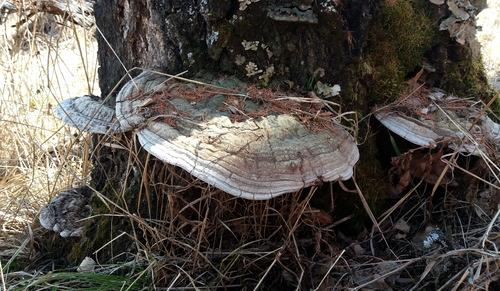Ganoderma - Fruit Body: (118, 69, 360, 205), (376, 76, 500, 166), (38, 185, 98, 241), (62, 90, 113, 134)
